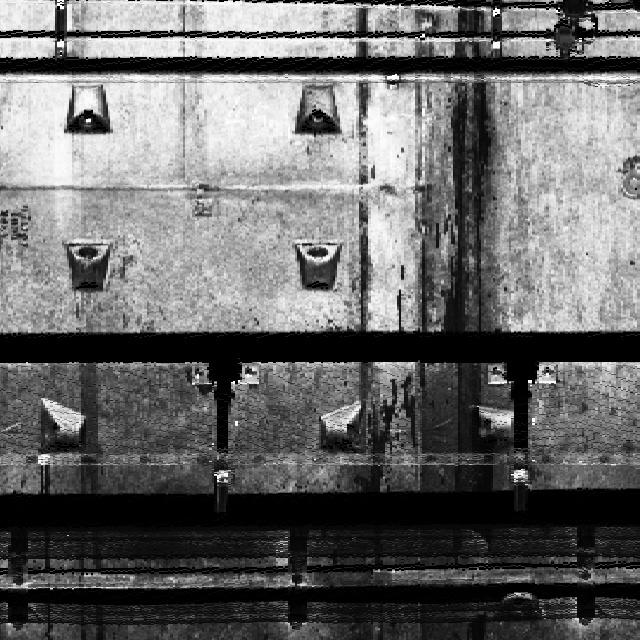leakage: (392, 7, 514, 494), (71, 356, 106, 490)
